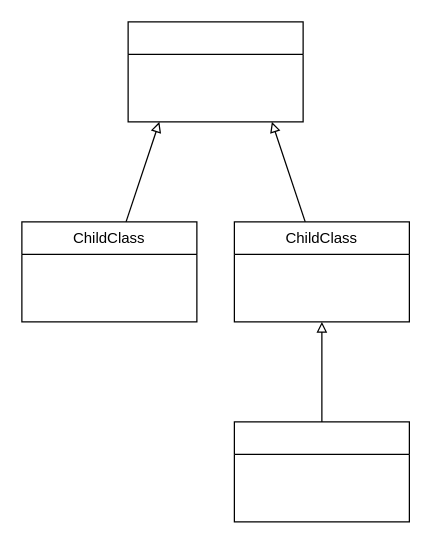
The diagram is 431 pixels wide and 544 high, and some of its shapes have lost their labels. The centre of each missing label's shape, as x and y in pixels:
"A bstractParentClass" belongs at (215,71).
"GrandchildClass" belongs at (321,471).
